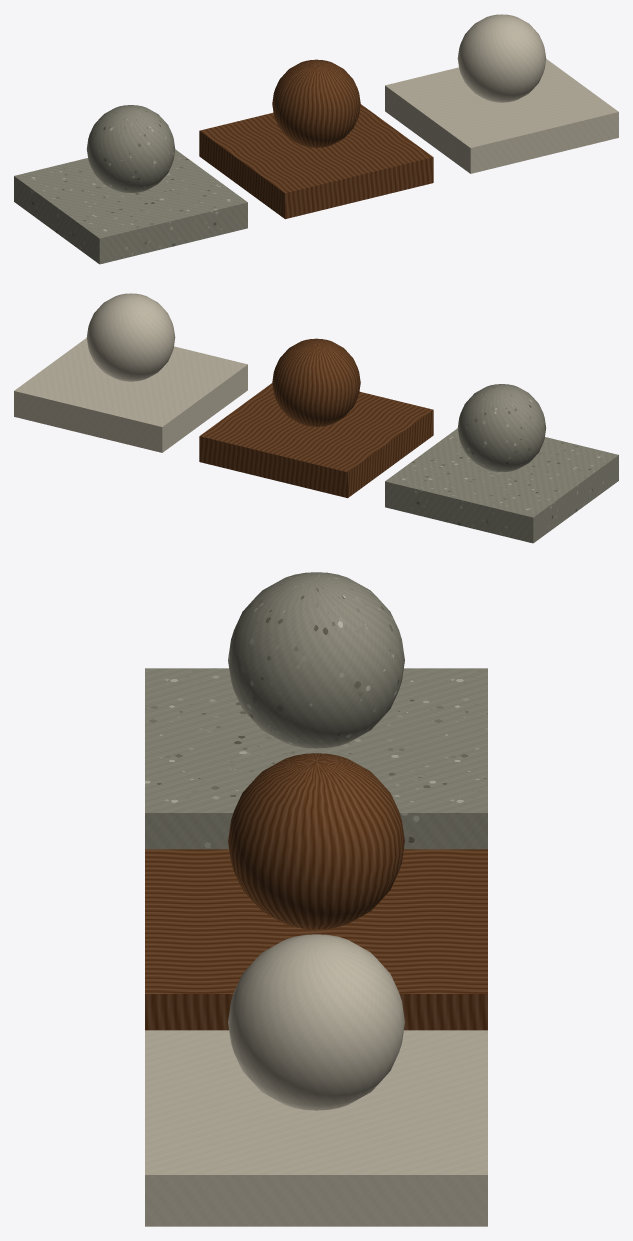
Rendered from interior-material-study.glb.
3 views of the same model, one above another, from view 1: azimuth 30°, elevation 25°; view 2: azimuth 150°, elevation 25°; view 3: azimuth 270°, elevation 25° (orthographic). The views are drawn at different scales.
Visible parts, largest first — view 1: interior-oak-veneer-coupon, interior-terrazzo-coupon, interior-matte-plaster-coupon, interior-oak-veneer-curvature, interior-terrazzo-curvature, interior-matte-plaster-curvature; view 2: interior-oak-veneer-coupon, interior-terrazzo-coupon, interior-matte-plaster-coupon, interior-oak-veneer-curvature, interior-terrazzo-curvature, interior-matte-plaster-curvature; view 3: interior-matte-plaster-coupon, interior-terrazzo-coupon, interior-oak-veneer-coupon, interior-terrazzo-curvature, interior-oak-veneer-curvature, interior-matte-plaster-curvature.
Part boxes in pixels (x1,y1,x2,y2): interior-oak-veneer-coupon: (199,104,433,219); interior-terrazzo-coupon: (14,149,247,264); interior-matte-plaster-coupon: (385,59,618,173); interior-oak-veneer-curvature: (272,59,360,147); interior-terrazzo-curvature: (86,105,175,192); interior-matte-plaster-curvature: (457,14,546,102); interior-oak-veneer-coupon: (199,383,433,498); interior-terrazzo-coupon: (385,428,618,543); interior-matte-plaster-coupon: (14,338,247,452); interior-oak-veneer-curvature: (272,338,360,426); interior-terrazzo-curvature: (457,384,546,471); interior-matte-plaster-curvature: (86,293,175,381); interior-matte-plaster-coupon: (145,1030,487,1226); interior-terrazzo-coupon: (145,668,487,849); interior-oak-veneer-coupon: (145,849,487,1030); interior-terrazzo-curvature: (228,572,404,748); interior-oak-veneer-curvature: (228,753,404,929); interior-matte-plaster-curvature: (228,934,404,1110).
Size of the model in its own units: 4.2 by 0.82 by 1.2.
3 materials, 3 textured.
